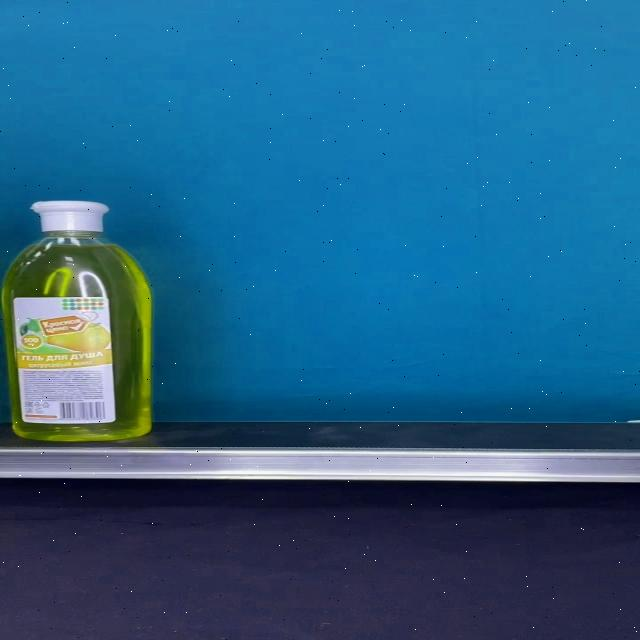Bottle: (2, 200, 152, 441)
Cap: (30, 200, 109, 232)
